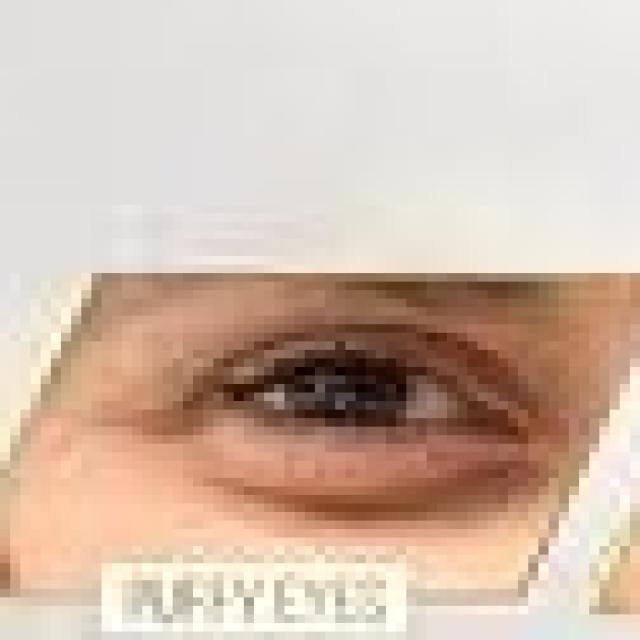Puffy Eyes - v3 Dark Circle: (178, 426, 560, 536)
